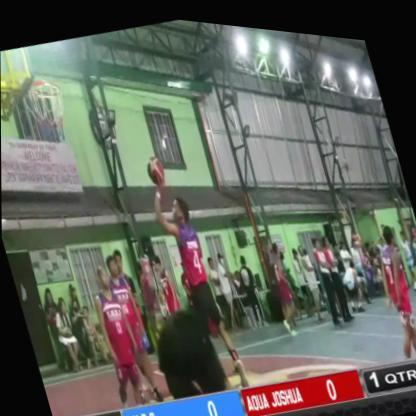basketball: (138, 137, 173, 193)
rim: (15, 60, 79, 160)
